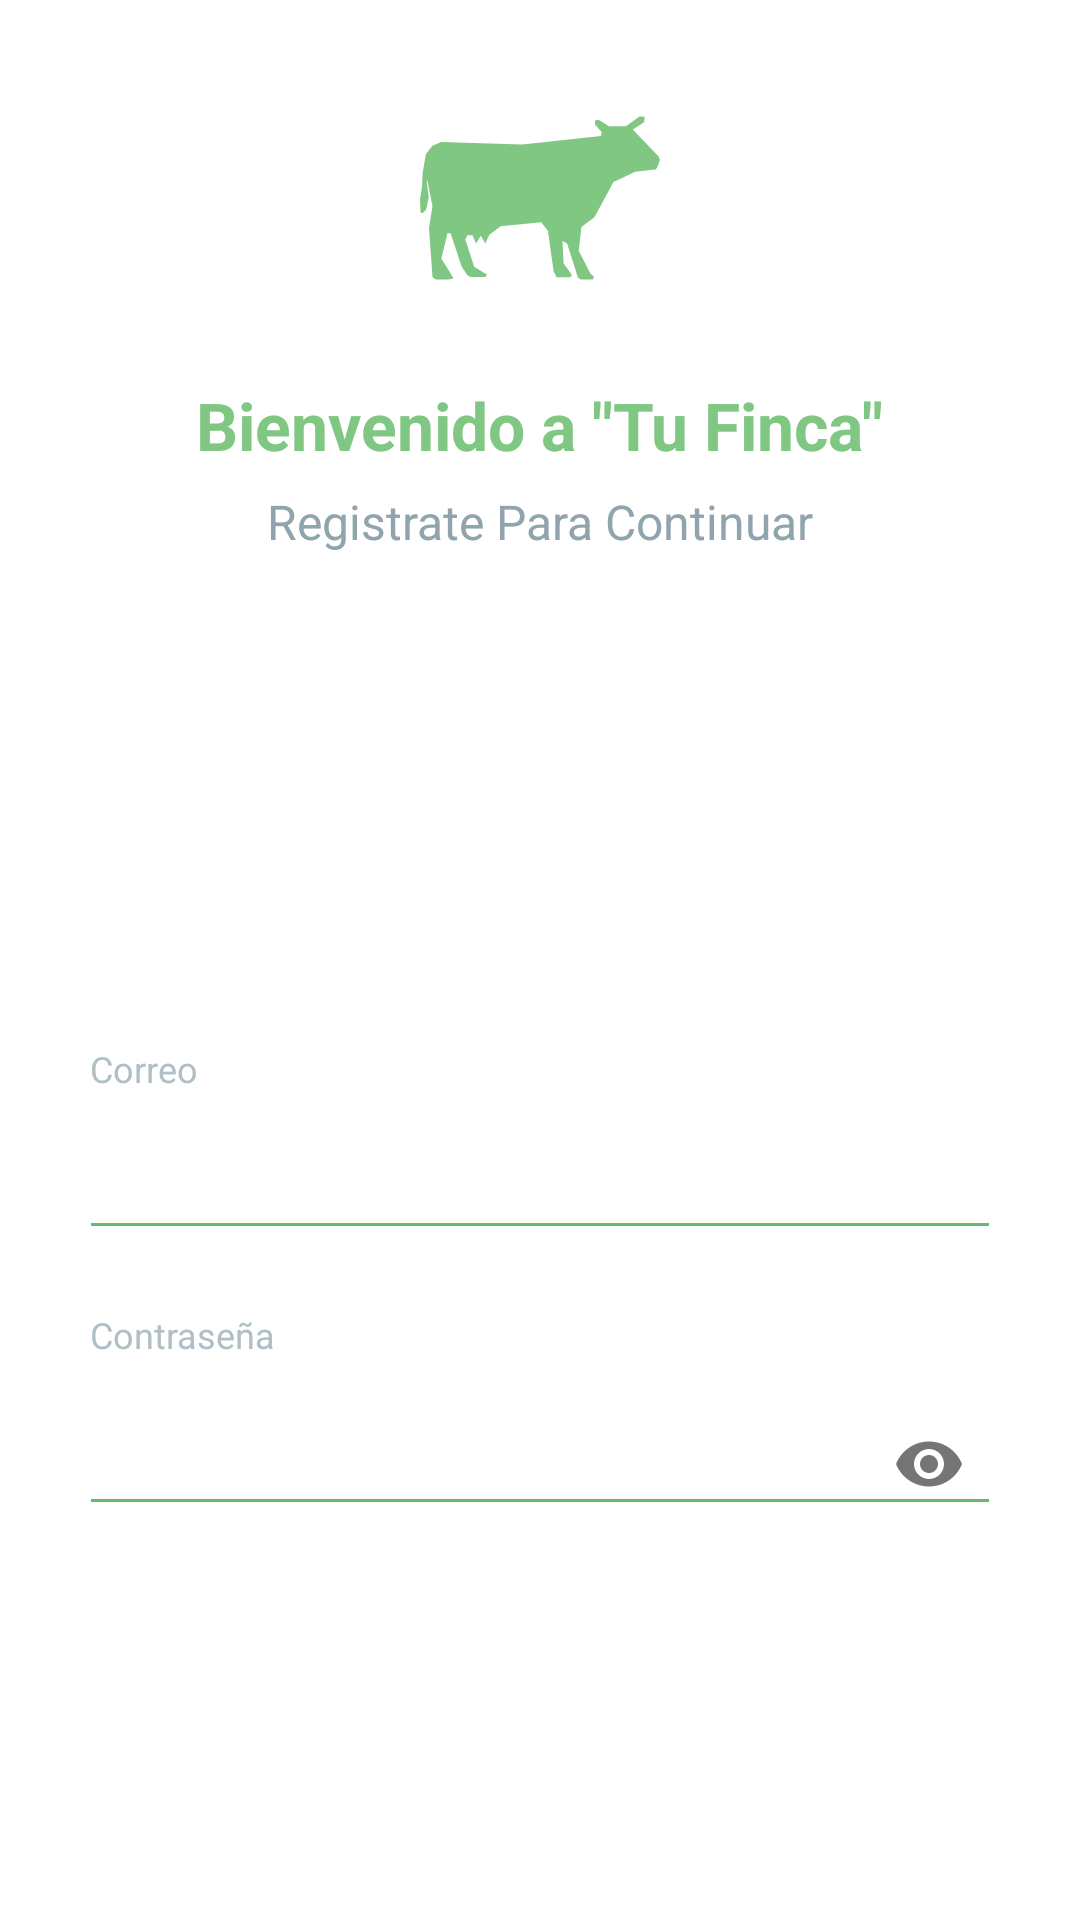

Named icons in this screenshot (1080w x 1920h) and their bounding boxes, (x1, y1, x2, y2):
cow: (420, 116, 660, 280)
